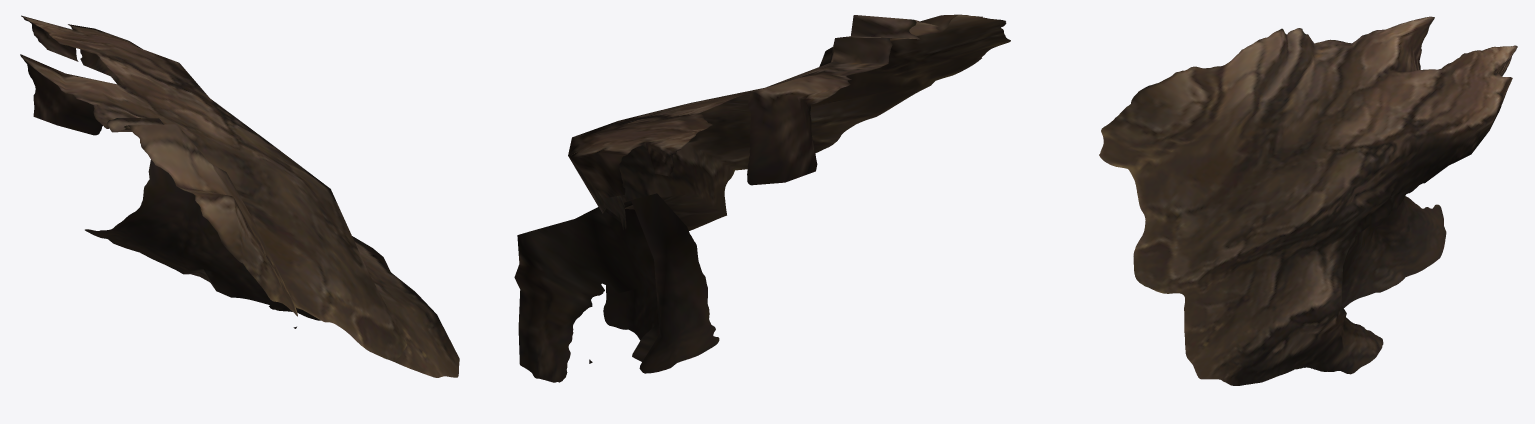
File: rock_3_01.FBX
3 views of the same model, side by side, from view 1: azimuth 30°, elevation 25°; view 2: azimuth 150°, elevation 25°; view 3: azimuth 270°, elevation 25° (orthographic). The views are drawn at different scales.
Visible parts, largest first — view 1: rock_3_01; view 2: rock_3_01; view 3: rock_3_01.
Part boxes in pixels (x1=…): rock_3_01: x1=20, y1=15, x2=459, y2=377; rock_3_01: x1=514, y1=14, x2=1010, y2=382; rock_3_01: x1=1099, y1=16, x2=1517, y2=385.
Size of the model in its own units: 261 by 253 by 366.
